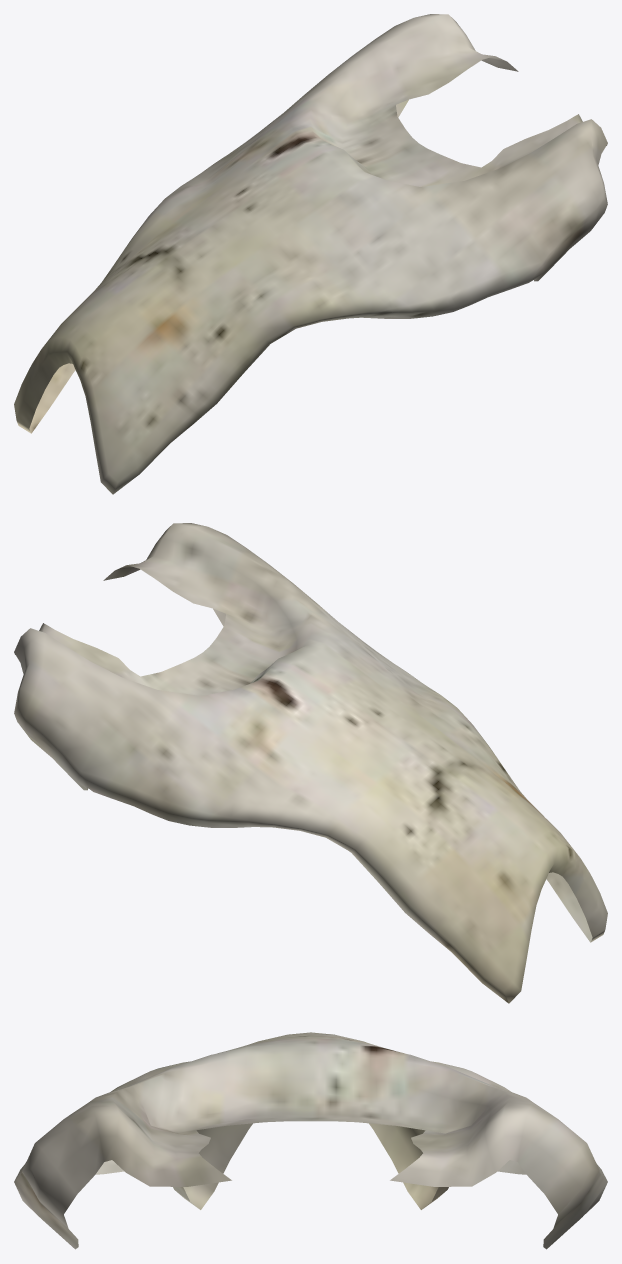
File: kepala3.glb
3 renders of one model, top to bottom at view 1: azimuth 30°, elevation 25°; view 2: azimuth 150°, elevation 25°; view 3: azimuth 270°, elevation 25°, orthographic. The views are drawn at different scales.
Parts seen in each view (by area): view 1: Tulang_MSH33; view 2: Tulang_MSH33; view 3: Tulang_MSH33.
Part boxes in pixels (x1,y1,x2,y2): Tulang_MSH33: (14, 14, 607, 494); Tulang_MSH33: (14, 523, 607, 1003); Tulang_MSH33: (14, 1032, 607, 1249).
Size of the model in its own units: 0.0458 by 0.0258 by 0.036.
Materials: 1 (1 with a texture image).
